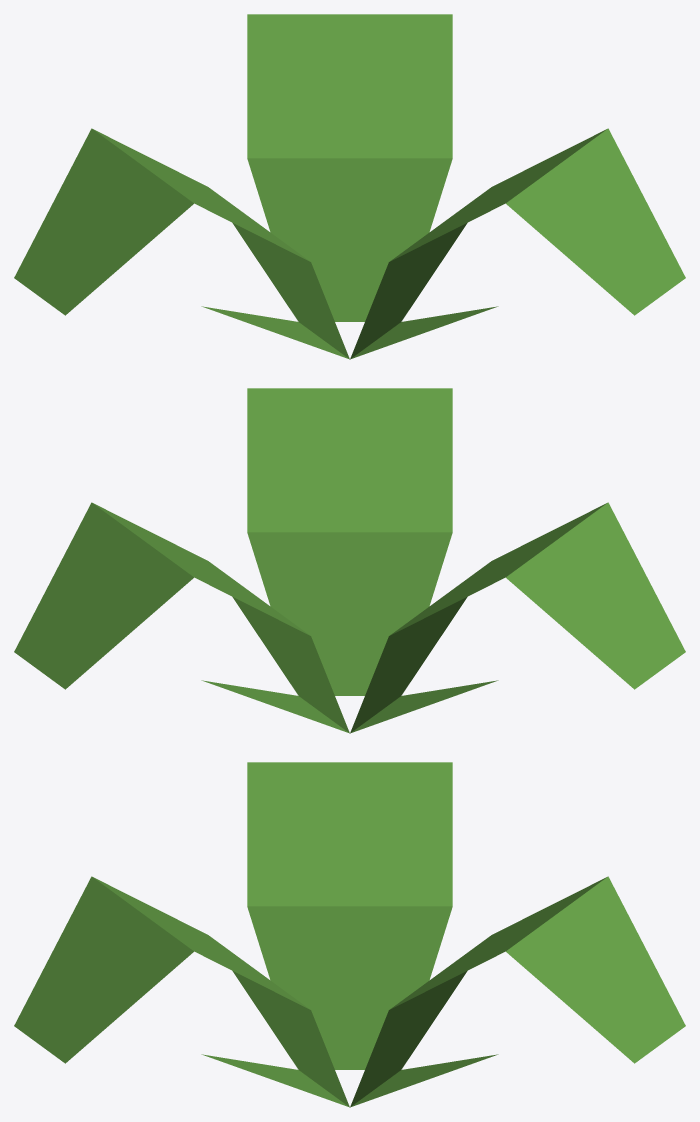
Rendered from bush-4.glb.
The picture shows the model from 3 angles, top to bottom: view 1: azimuth 30°, elevation 25°; view 2: azimuth 150°, elevation 25°; view 3: azimuth 270°, elevation 25°; orthographic projection.
Parts seen in each view (by area): view 1: plant_bushLargeTriangle; view 2: plant_bushLargeTriangle; view 3: plant_bushLargeTriangle.
Part boxes in pixels (x1,y1,x2,y2): plant_bushLargeTriangle: (14,14,685,359); plant_bushLargeTriangle: (14,388,685,733); plant_bushLargeTriangle: (14,762,685,1107).
Bounding box in the file's own units: 1.69 × 0.6999 × 1.95.
